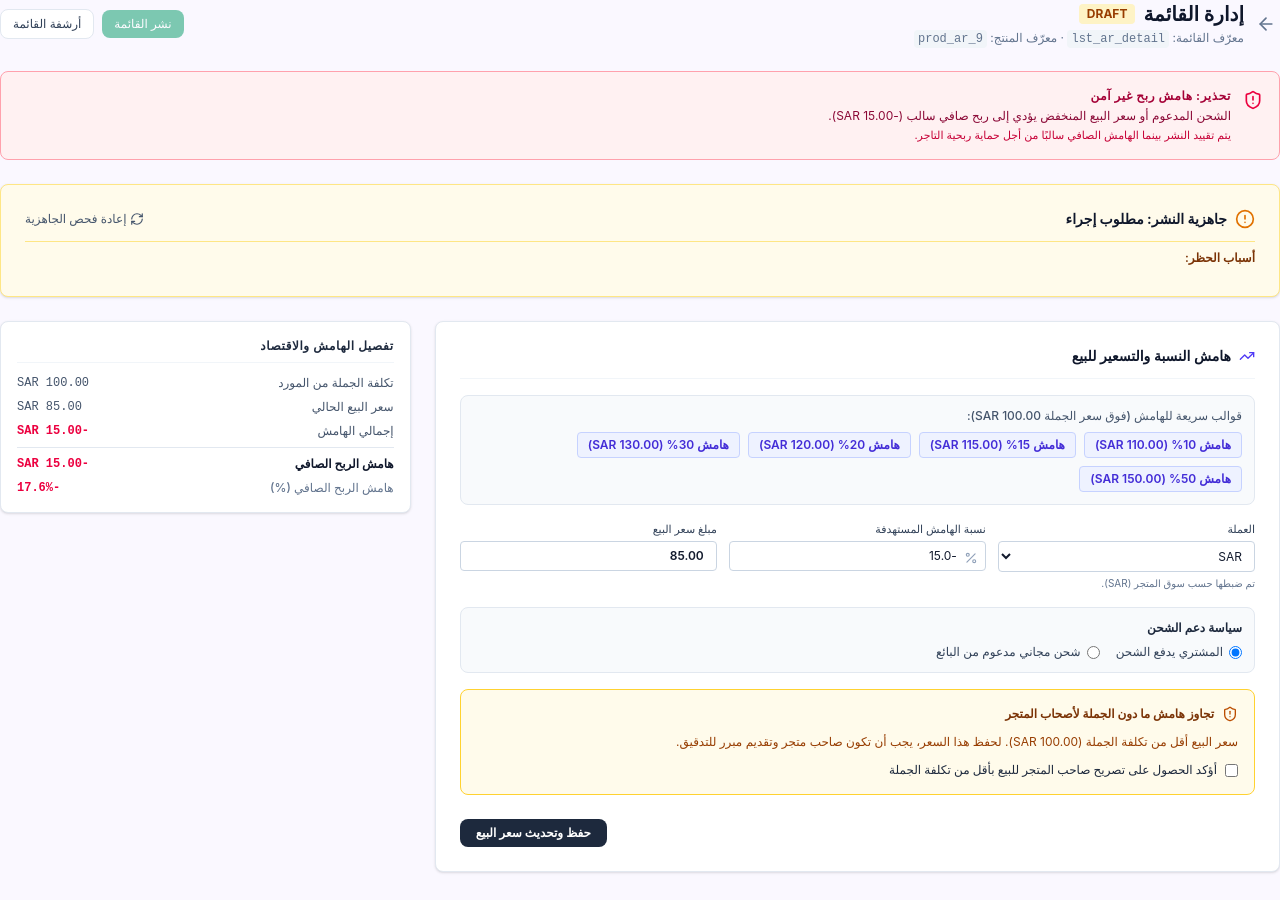
Test: Arabic Localization & RTL Switching (US5) › renders the listing detail screen in Arabic under RTL while preserving IDs, price and currency
Expected: the heading "إدارة القائمة" is shown, [1143,0,1244,28]
Expected: the button "نشر القائمة" is shown, [102,10,184,38]
The archive confirmation modal copy is localized in Arabic as well.
Click the button "أرشفة القائمة".
click(47, 24)  # box [0,8,94,38]
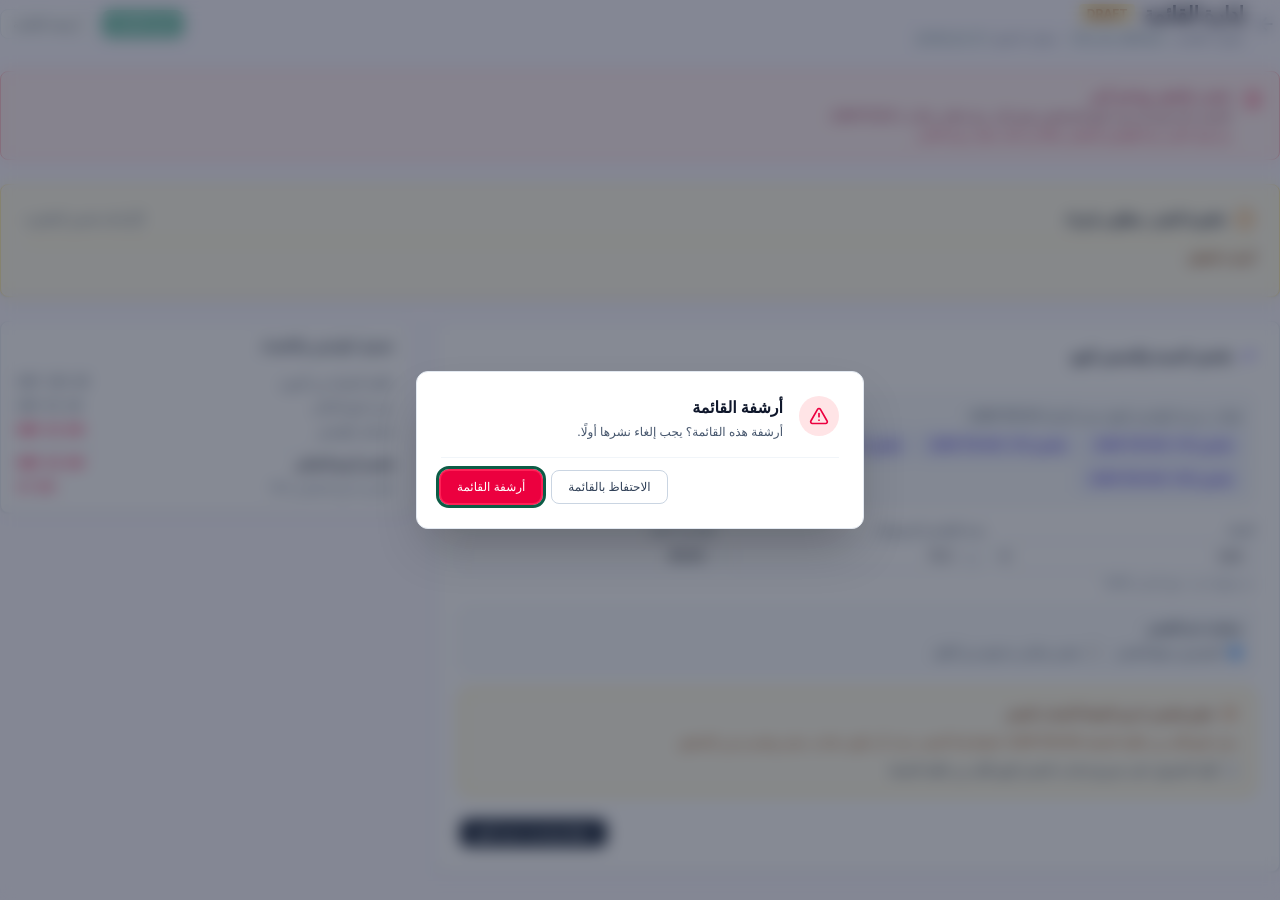
Expected: the dialog shows "أرشفة القائمة", [692,397,783,417]
Expected: the button "الاحتفاظ بالقائمة" is shown, [551,470,668,504]
